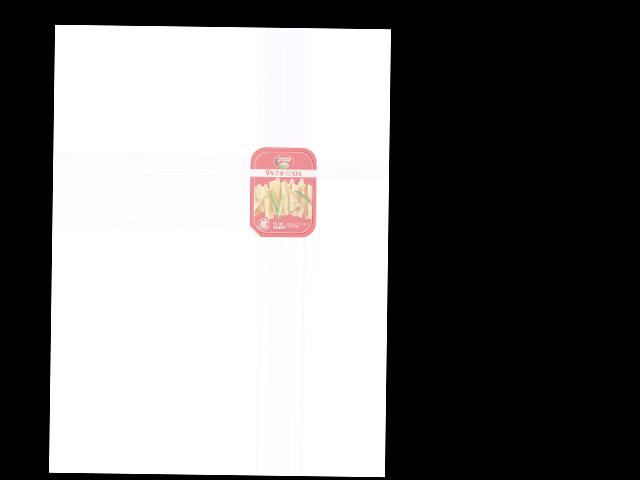cheese: (249, 146, 317, 238)
